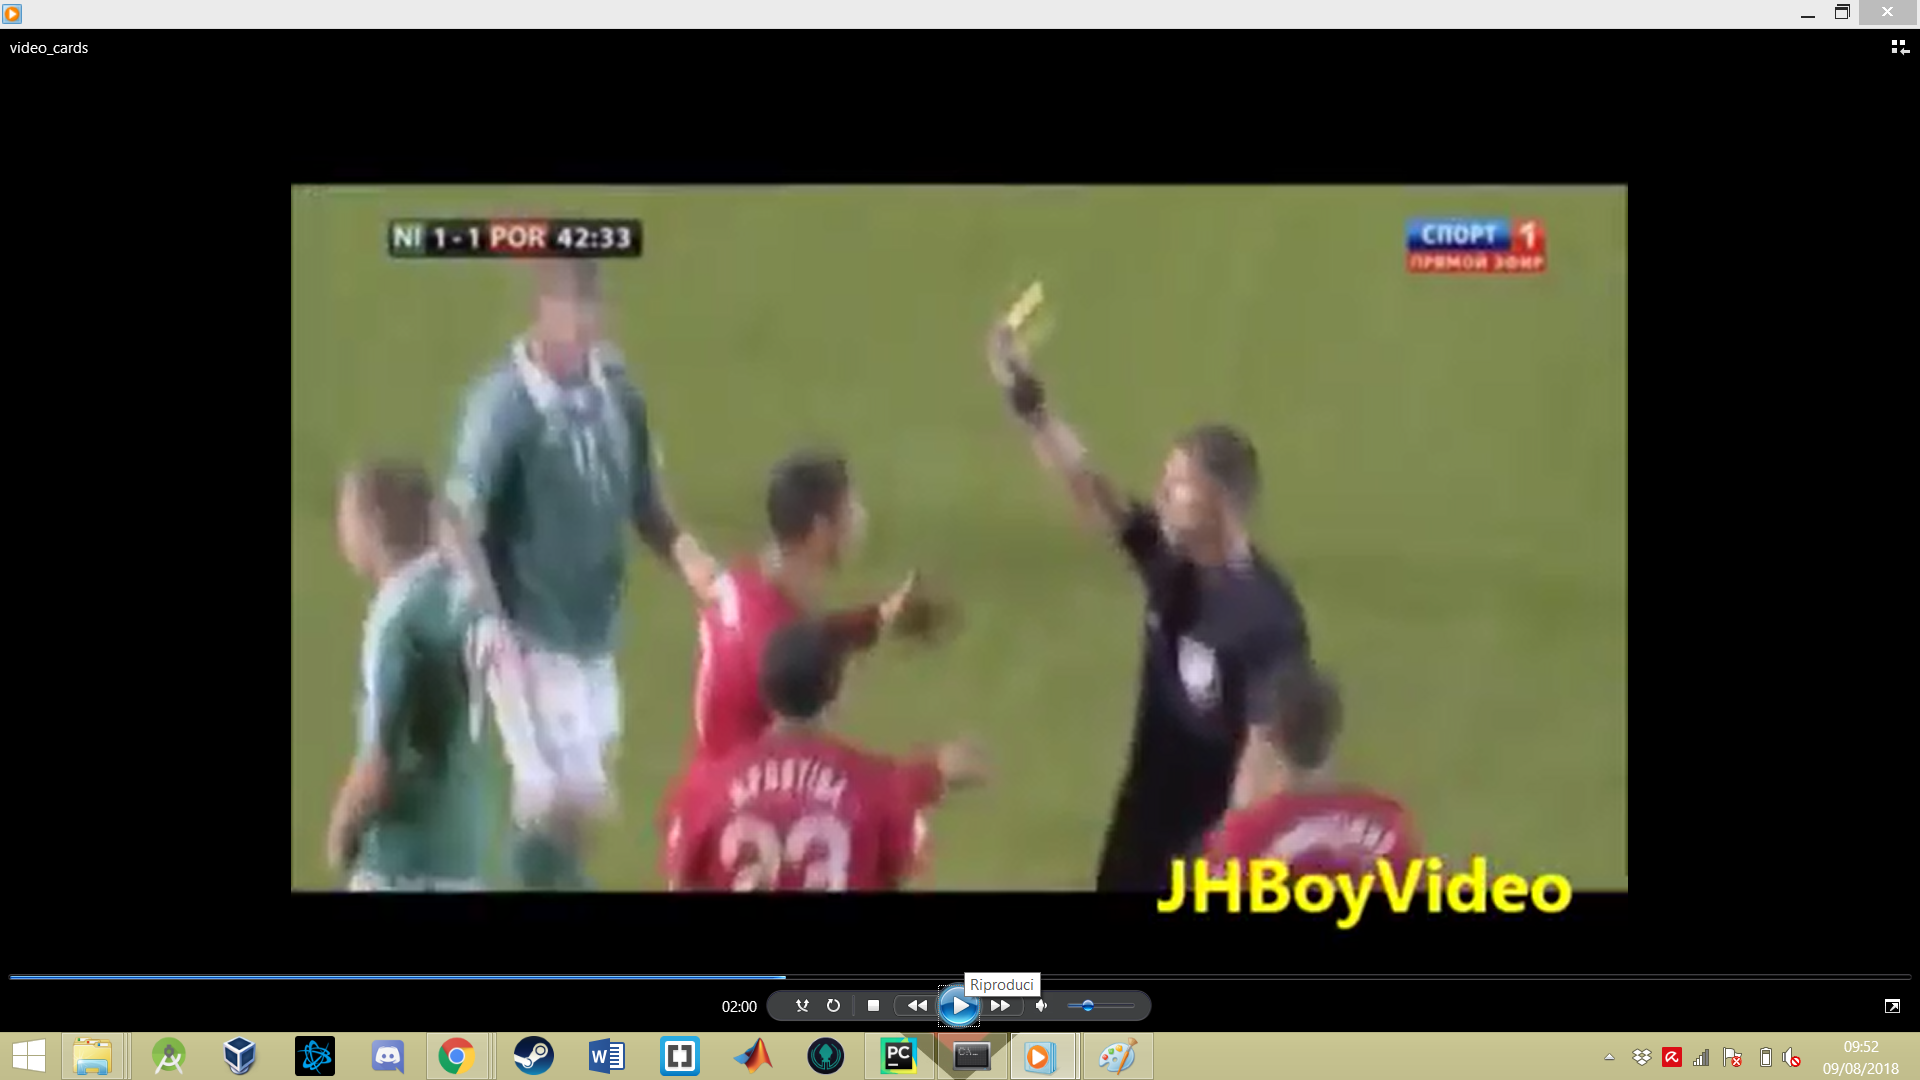yellow_card: (975, 269, 1058, 375)
